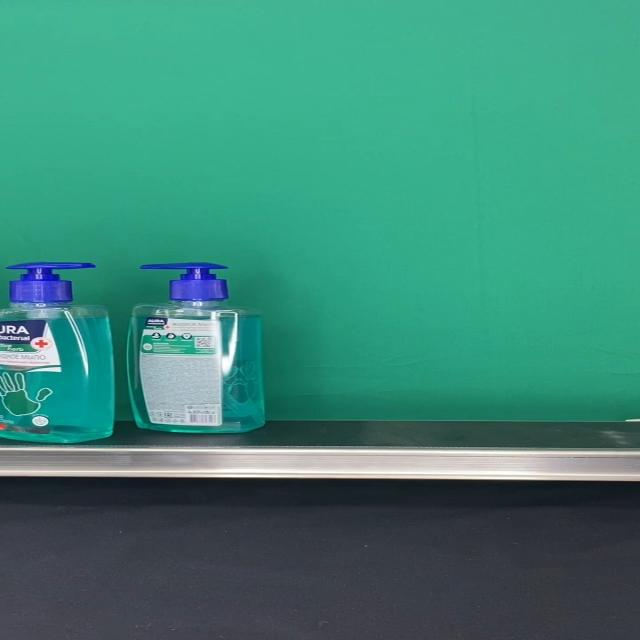Bottle: (126, 262, 264, 433), (0, 261, 113, 442)
Cap: (5, 262, 97, 302), (139, 263, 229, 303)
